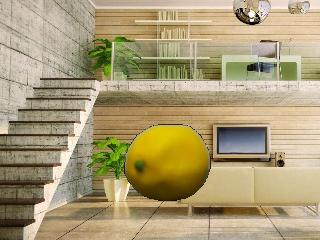lemon: (119, 122, 216, 202)
